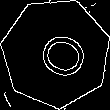O_W: (25, 24, 87, 82)
